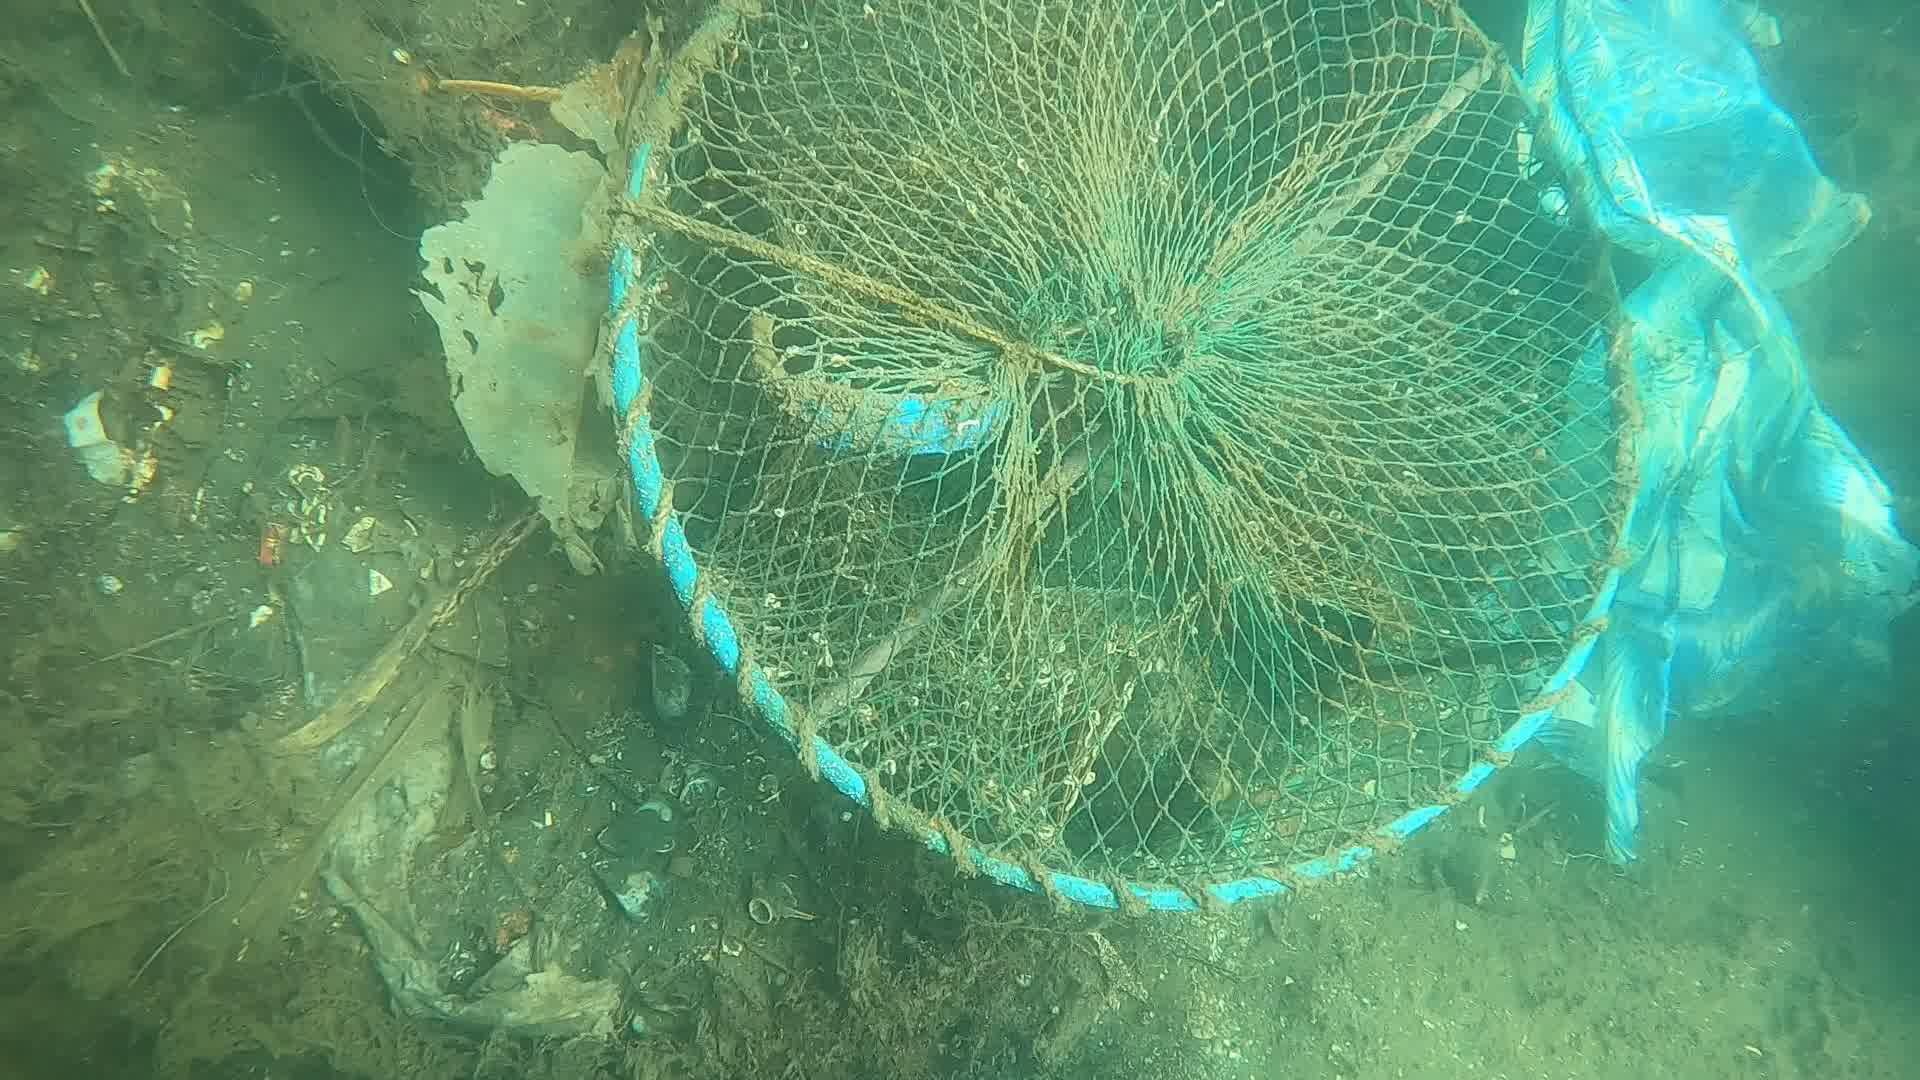circular fish trap: (607, 0, 1640, 914)
